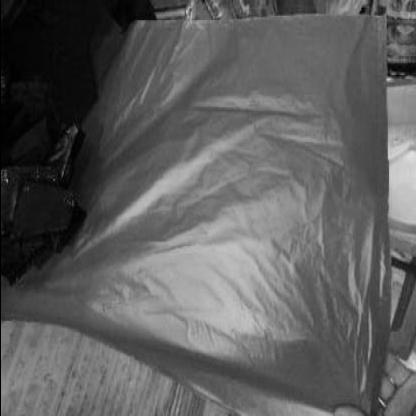objects: (0, 7, 393, 414)
